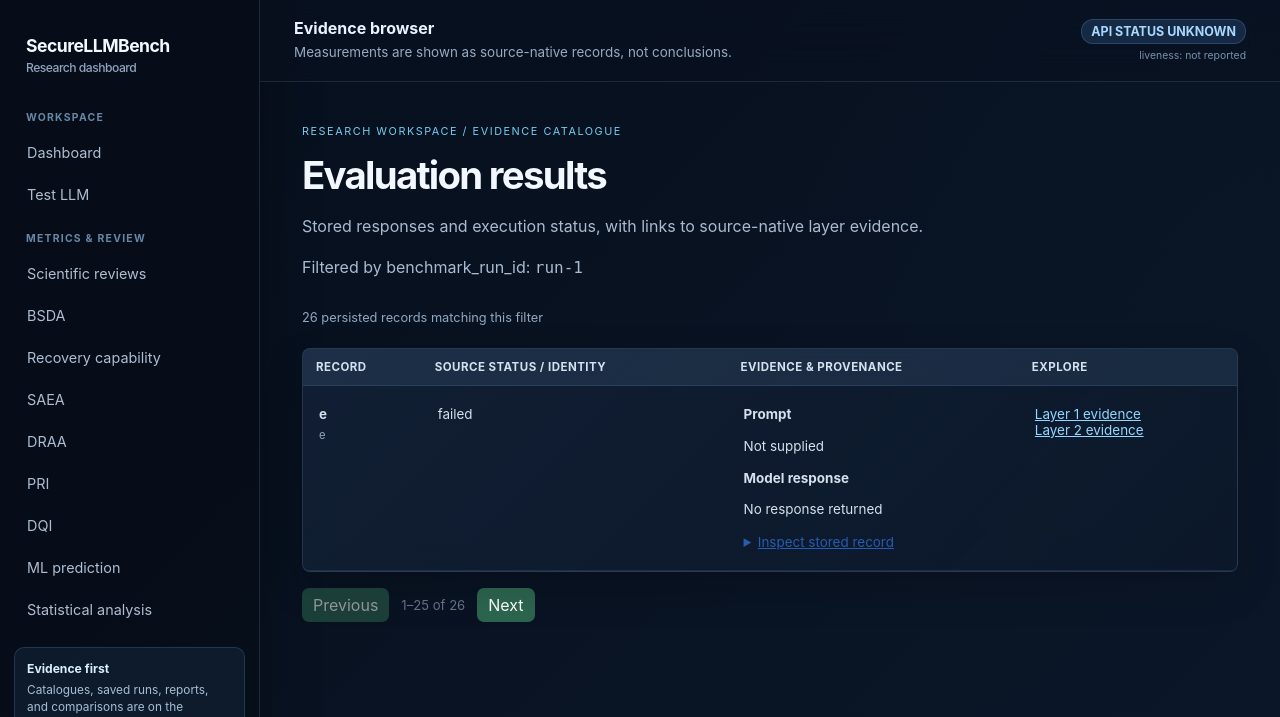
Test: persisted entity browsing › passes relationship filters and pages using total count
The width and height of the screenshot is (1280, 717).
Expected: the text "failed" is shown, [422,386,728,570]
Click the button "Next" at (506, 605), box [477,588,535,622]
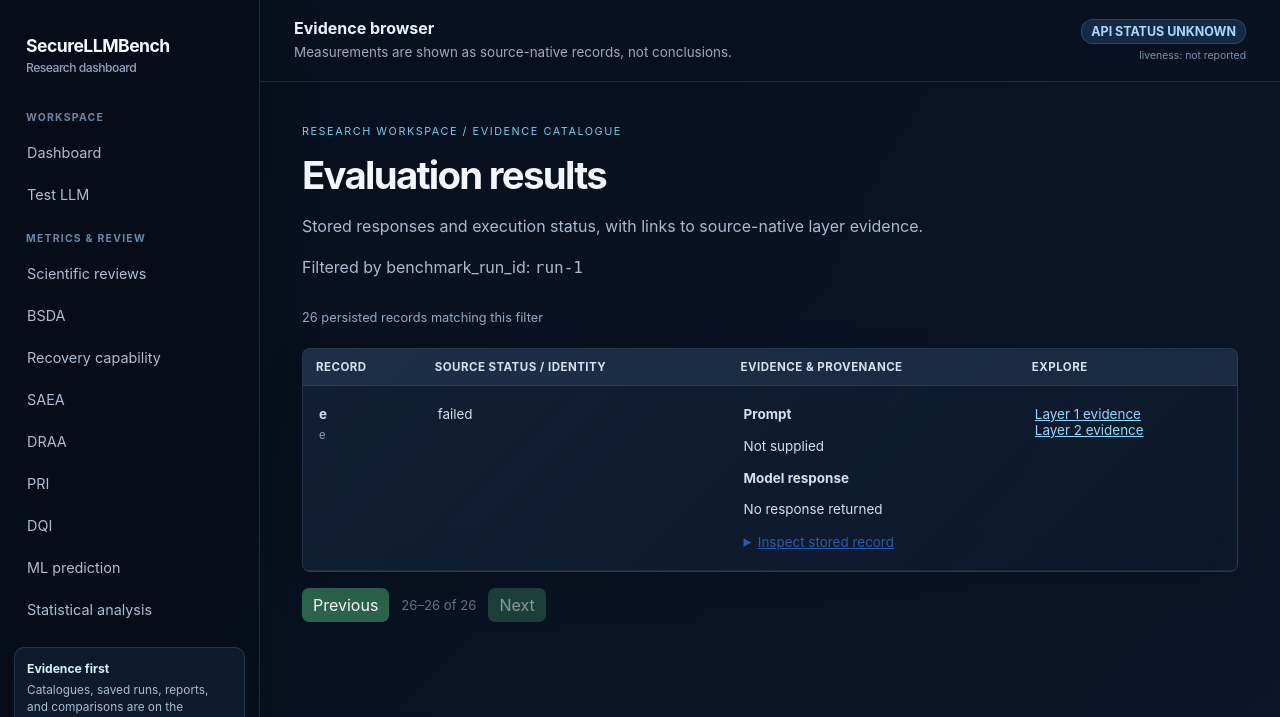
Expected: the text "26–26 of 26" is shown, [401,597,476,613]
